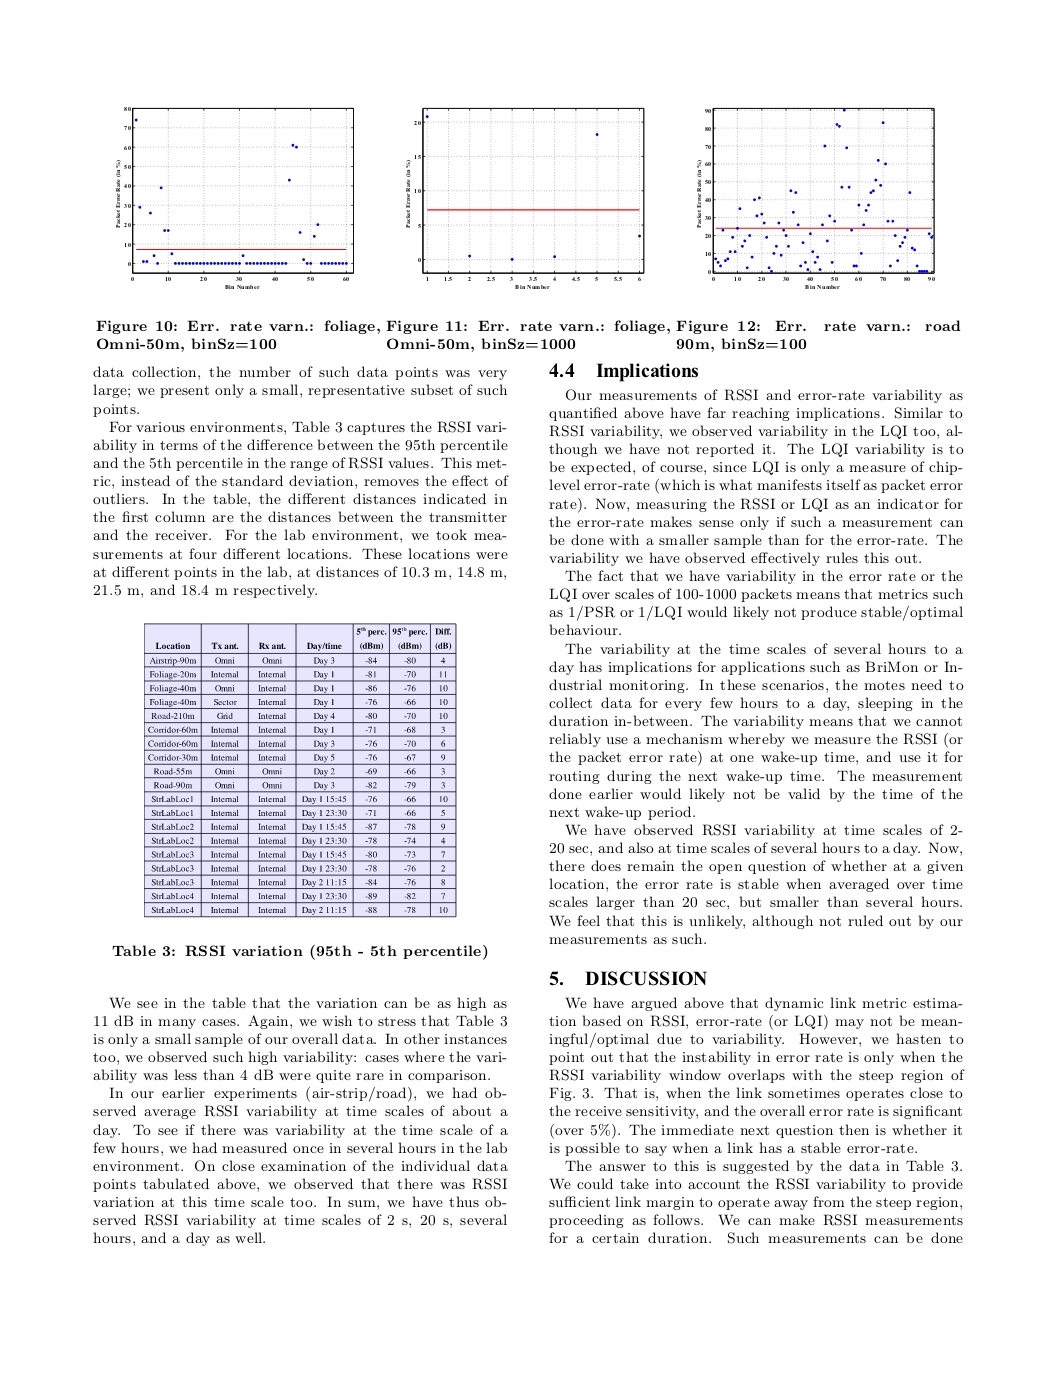Table: (144, 622, 456, 918)
figure: (406, 107, 644, 288), (116, 107, 353, 288), (697, 107, 934, 288)
